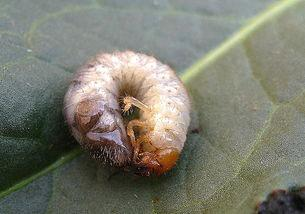grub: (64, 50, 192, 181)
